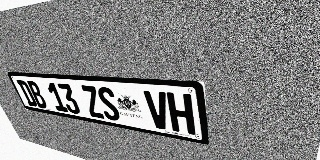1: (45, 82, 69, 112)
3: (57, 83, 81, 115)
B: (26, 81, 49, 109)
D: (16, 80, 38, 107)
H: (166, 92, 195, 135)
S: (95, 86, 122, 122)
V: (143, 90, 172, 131)
Z: (80, 85, 105, 119)
